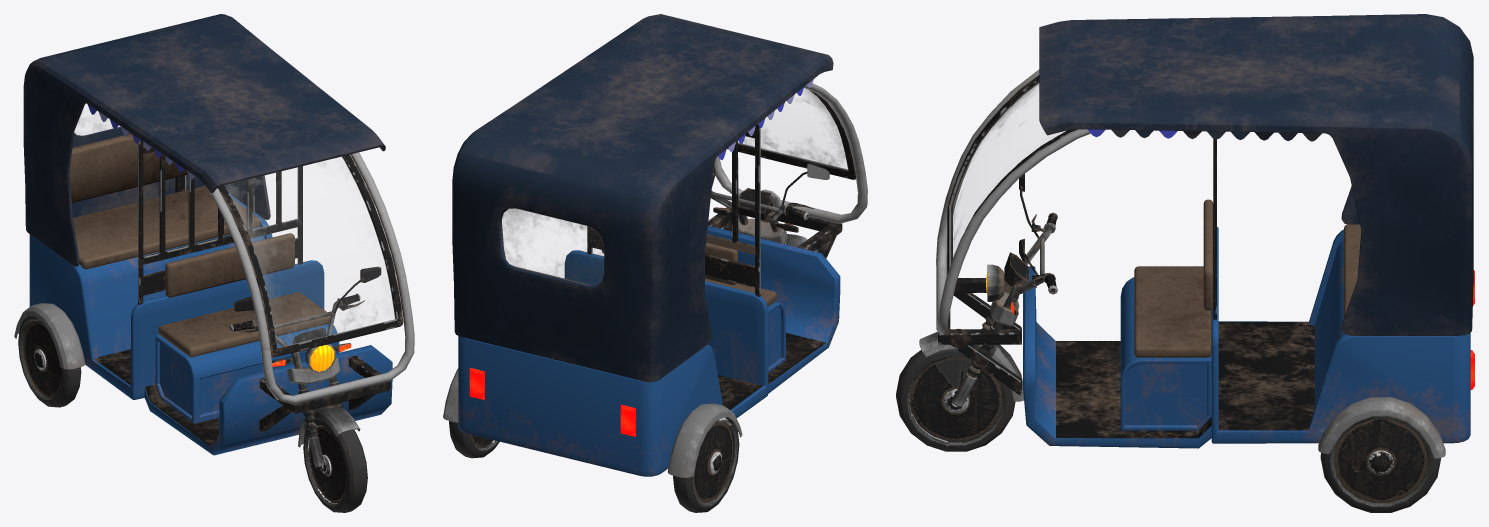
File: Low_Poly_Auto_Rickshaw v2 .fbx
3 renders of one model, left to right at view 1: azimuth 30°, elevation 25°; view 2: azimuth 150°, elevation 25°; view 3: azimuth 270°, elevation 25°, orthographic. The views are drawn at different scales.
Visible parts, largest first — view 1: Body, Front_Part, Front_wheel, Back_Wheel; view 2: Body, Back_Wheel, Front_Part; view 3: Body, Front_wheel, Back_Wheel, Front_Part.
Boxes of the visible parts, x1,y1,x2,y2 form: Body: (14, 14, 414, 455); Front_Part: (229, 266, 381, 467); Front_wheel: (303, 416, 367, 512); Back_Wheel: (18, 316, 81, 407); Body: (443, 14, 867, 477); Back_Wheel: (449, 417, 739, 512); Front_Part: (710, 163, 829, 247); Body: (936, 14, 1474, 458); Front_wheel: (896, 348, 1015, 451); Back_Wheel: (1320, 416, 1441, 512); Front_Part: (919, 174, 1057, 406).
Bounding box in the file's own units: 1.58 × 2.05 × 2.8.
8 materials, 8 textured.
